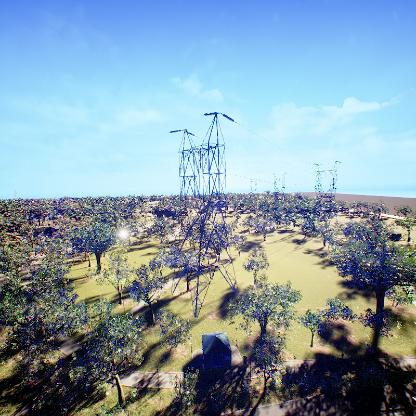tower: (166, 106, 246, 322), (309, 157, 343, 233)
